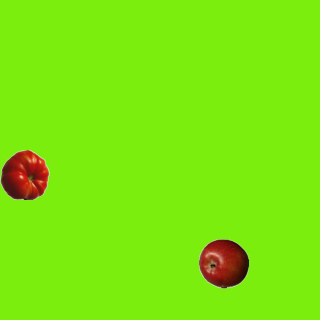Apple Braeburn: (198, 238, 248, 288)
Tomato 3: (0, 149, 49, 199)
